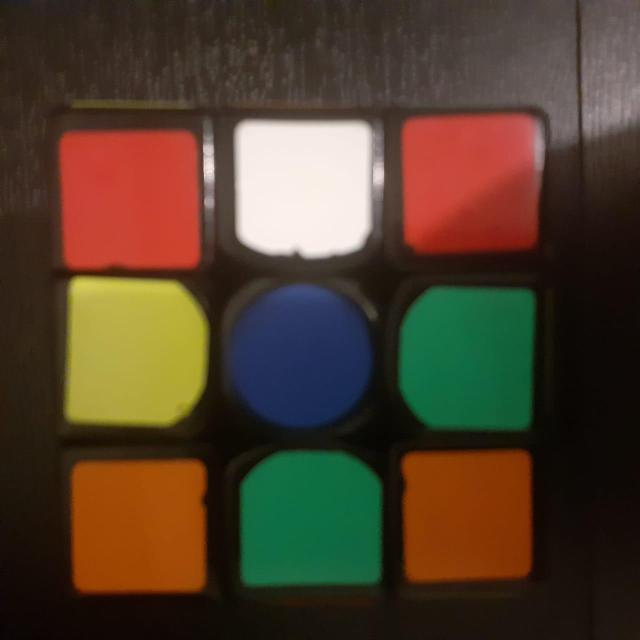Blue: (224, 276, 382, 439)
Green: (231, 450, 385, 596), (400, 278, 540, 437)
Orange: (66, 462, 206, 594), (404, 452, 528, 582)
Red: (399, 111, 546, 259), (59, 120, 200, 272)
White: (224, 115, 384, 263)
Yellow: (64, 283, 200, 431)
